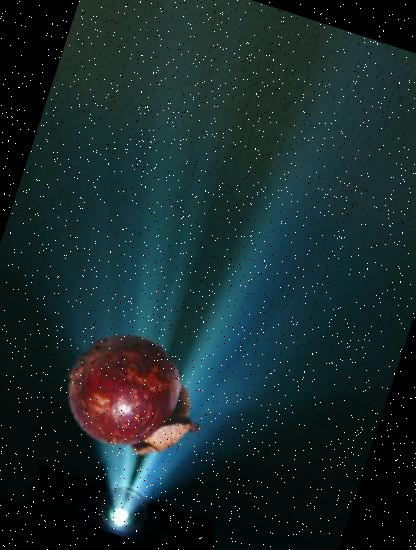Mangostan: (42, 311, 216, 486)
